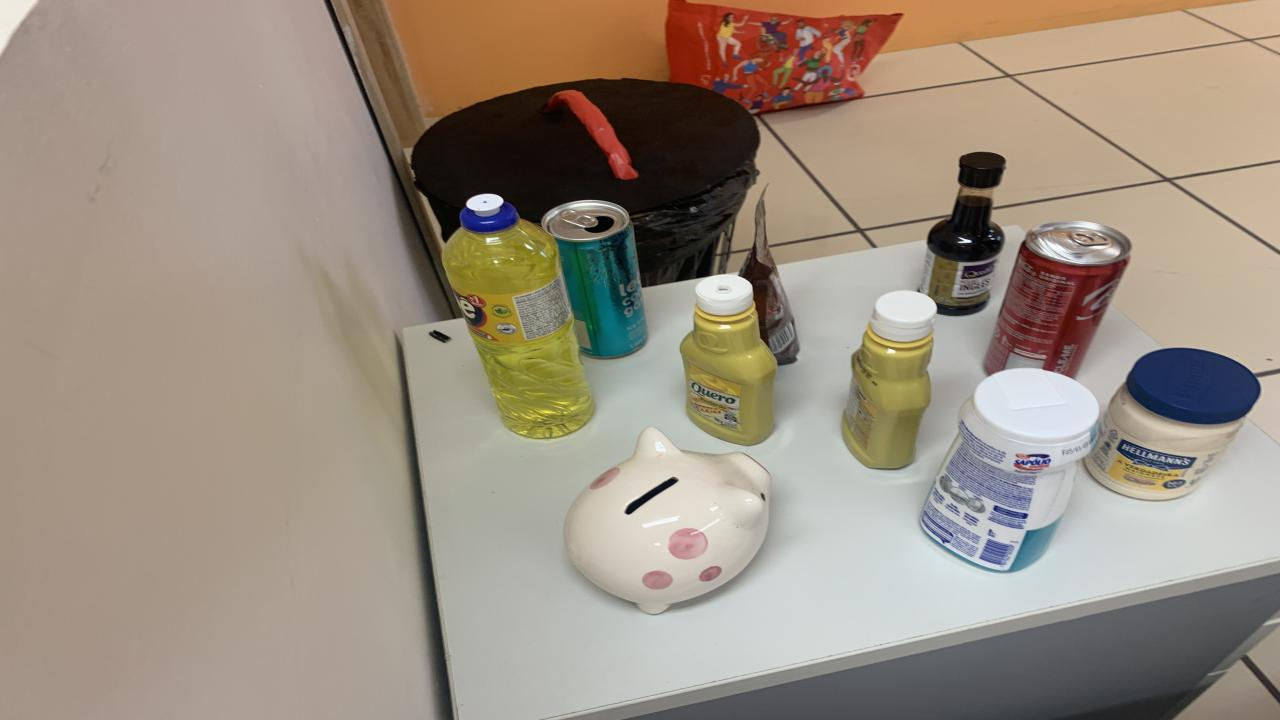Cleaner-Cleanup_Items: (920, 368, 1100, 572)
Coffee-Pantry_Items: (740, 188, 800, 366)
Coke-Drinks: (985, 221, 1130, 377)
Detergent-Cleanup_Items: (442, 193, 592, 439)
English_Sauce-Pantry_Items: (920, 152, 1005, 315)
Mayonnaise-Pantry_Items: (1085, 349, 1260, 501)
Mustard-Pantry_Items: (842, 291, 938, 469), (680, 274, 778, 444)
Pig_Safe-Miscellaneous: (565, 428, 770, 615)
Tea-Drinks: (542, 201, 648, 358)
